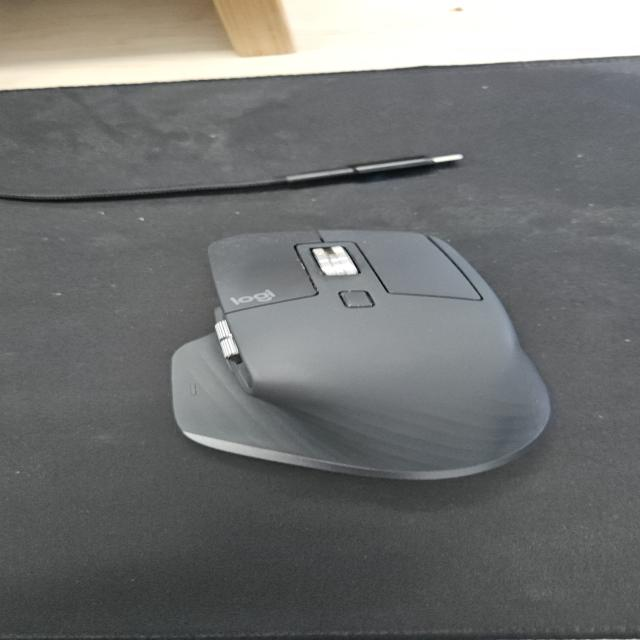Mouse: (167, 226, 554, 482)
